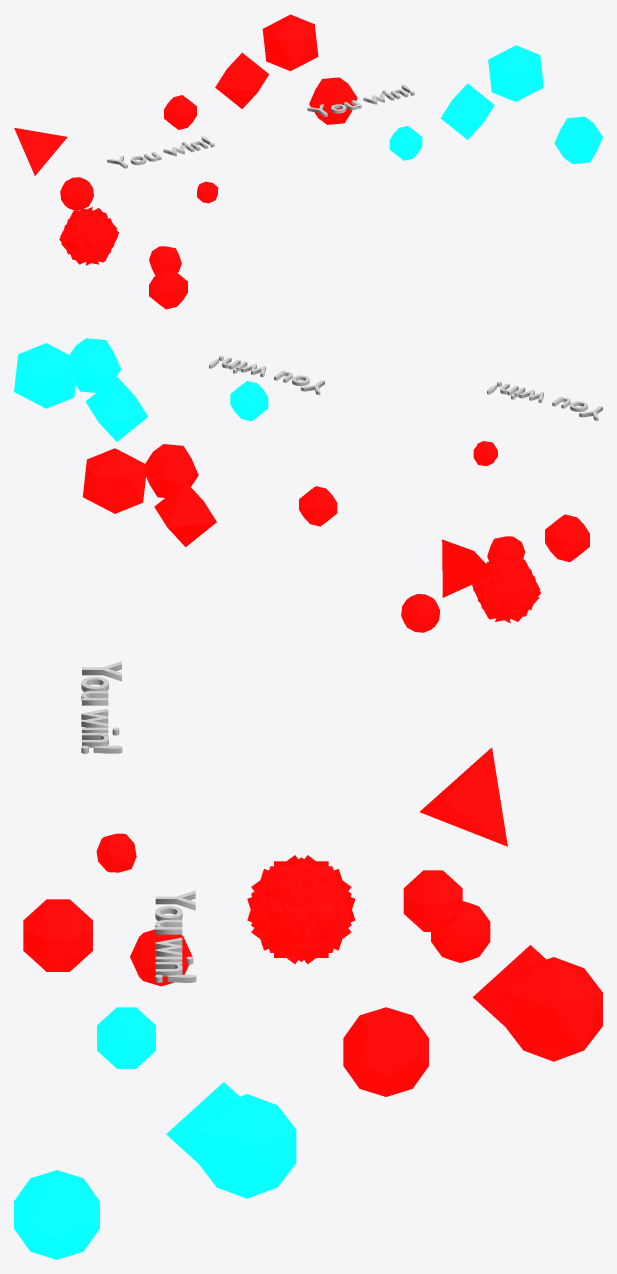
3 views of the same model, one above another, from view 1: azimuth 30°, elevation 25°; view 2: azimuth 150°, elevation 25°; view 3: azimuth 270°, elevation 25° (orthographic). The views are drawn at different scales.
Visible parts, largest first — view 1: Icosphere.001, Icosphere.005, Icosphere, Cube, Icosphere.004, Cube.001, Cube.003, Icosphere.003, Cone, Icosphere.002, Cube.004, Cube.002 (+2 smaller); view 2: Icosphere.005, Icosphere, Icosphere.001, Cube, Cube.003, Cube.001, Icosphere.003, Icosphere.004, Cone, Icosphere.002, Cube.004, Cube.002 (+3 smaller); view 3: Icosphere.001, Icosphere, Icosphere.005, Icosphere.004, Icosphere.003, Cube, Cone, Cube.002, Cube.004, Text, Text.001, Icosphere.002 (+3 smaller).
Part boxes in pixels (x1,y1,x2,y2): Icosphere.001: (59,207,118,265); Icosphere.005: (488,45,543,101); Icosphere: (262,14,318,70); Cube: (149,246,187,309); Icosphere.004: (554,116,602,163); Cube.001: (440,83,494,139); Cube.003: (215,52,268,108); Icosphere.003: (309,77,357,124); Cone: (14,127,67,175); Icosphere.002: (60,177,93,210); Cube.004: (389,126,422,160); Cube.002: (164,95,196,129); Icosphere.005: (14,343,78,408); Icosphere: (83,448,147,513); Icosphere.001: (472,555,540,623); Cube: (487,514,589,562); Cube.003: (154,481,216,547); Cube.001: (85,376,147,441); Icosphere.003: (145,444,198,497); Icosphere.004: (70,338,120,392); Cone: (442,539,494,597); Icosphere.002: (401,594,439,632); Cube.004: (230,381,268,421); Cube.002: (299,486,337,526); Icosphere.001: (247,855,355,964); Icosphere: (504,957,602,1061); Icosphere.005: (198,1094,296,1198); Icosphere.004: (14,1170,99,1259); Icosphere.003: (343,1007,428,1096); Cube: (23,899,192,986); Cone: (420,747,507,846); Cube.002: (403,870,462,931); Cube.004: (97,1007,155,1068); Text: (155,890,196,982); Text.001: (81,661,122,753); Icosphere.002: (431,901,490,962).
Size of the model in its own units: 17.51 by 5.08 by 10.18.
